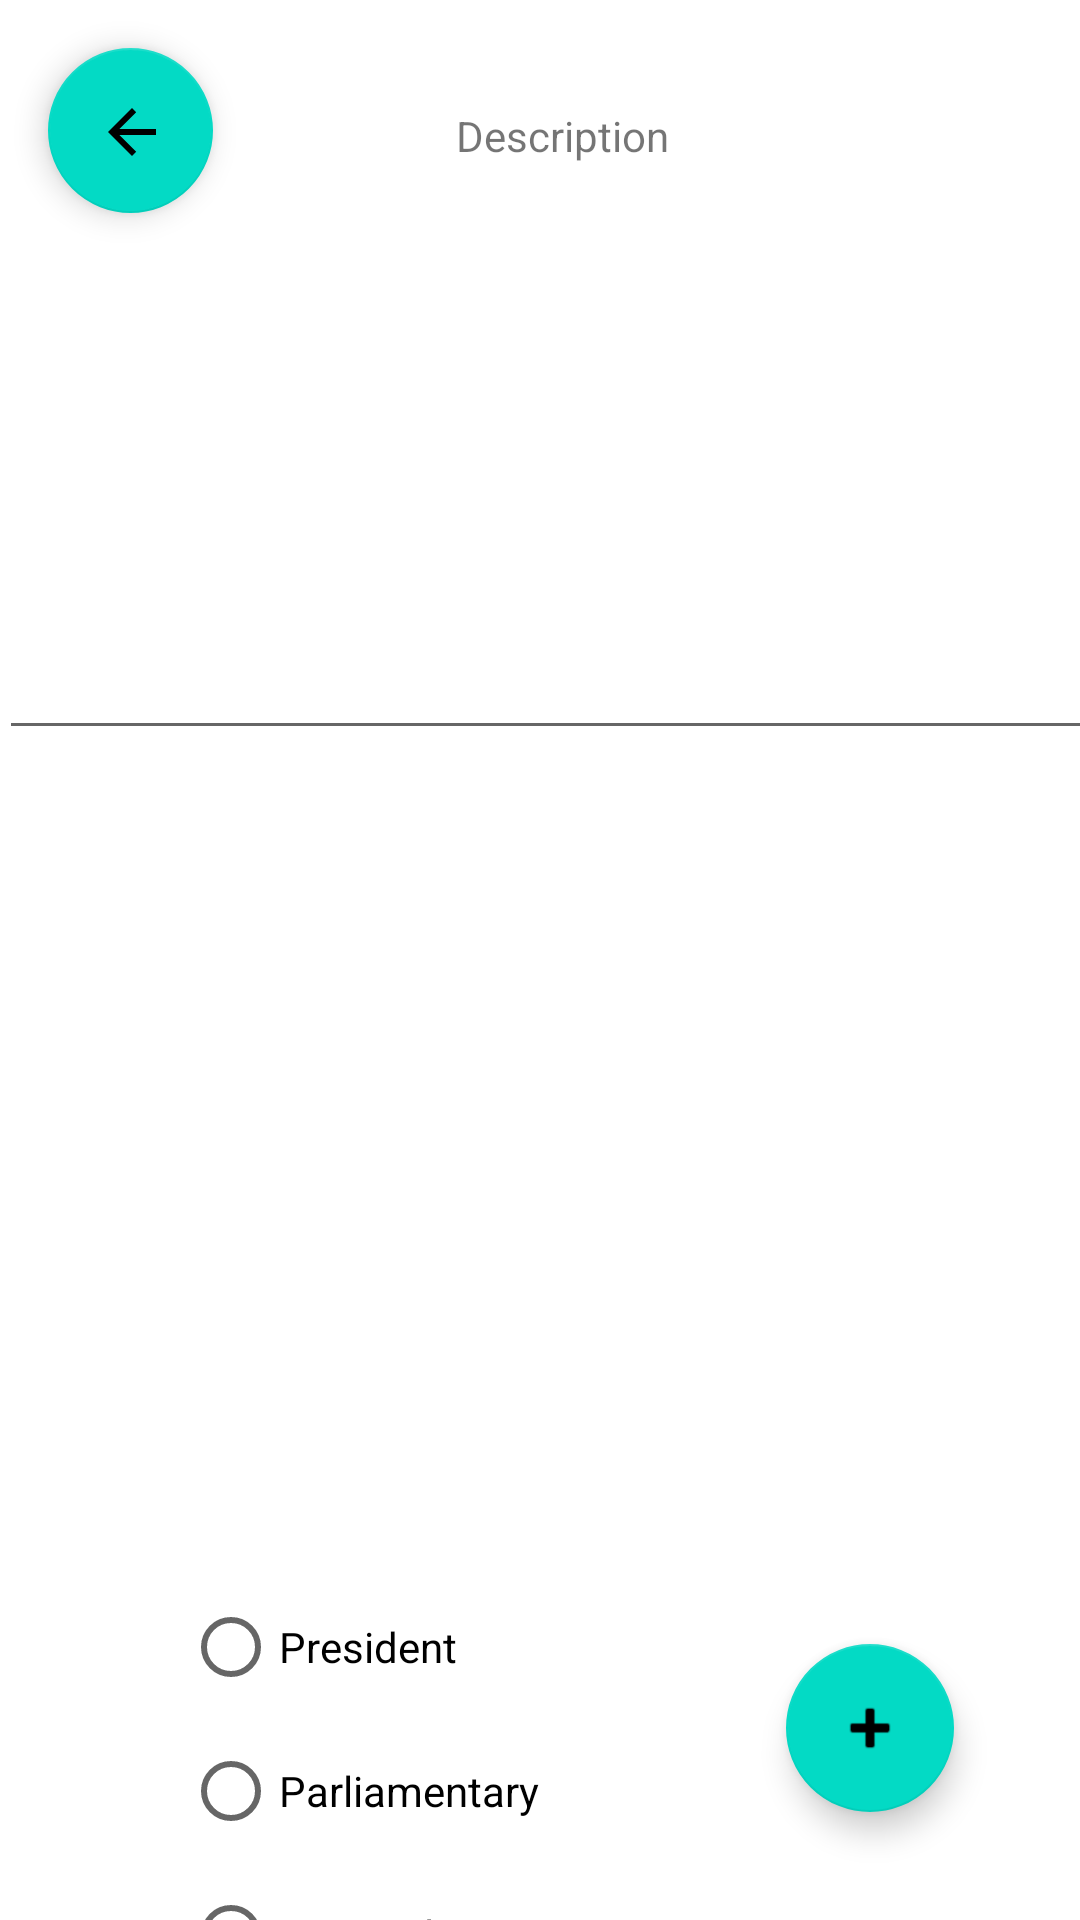

Icon click points for this 1080×1920 phone screenshot, format (x=x, y=y):
add: (x=870, y=1728)
